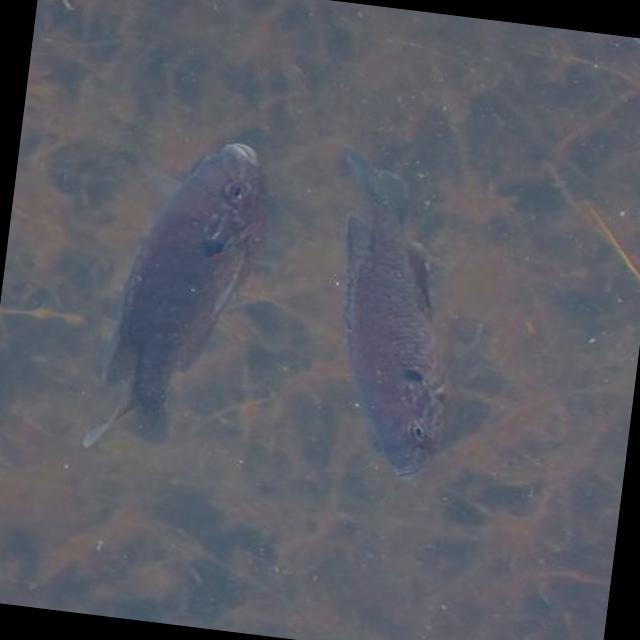Gunes Levregi: (76, 124, 298, 468)
